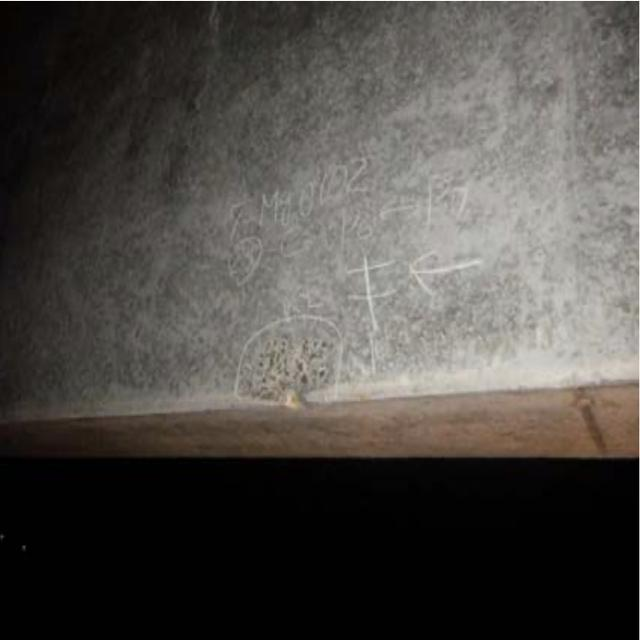spalling: (224, 321, 339, 420)
